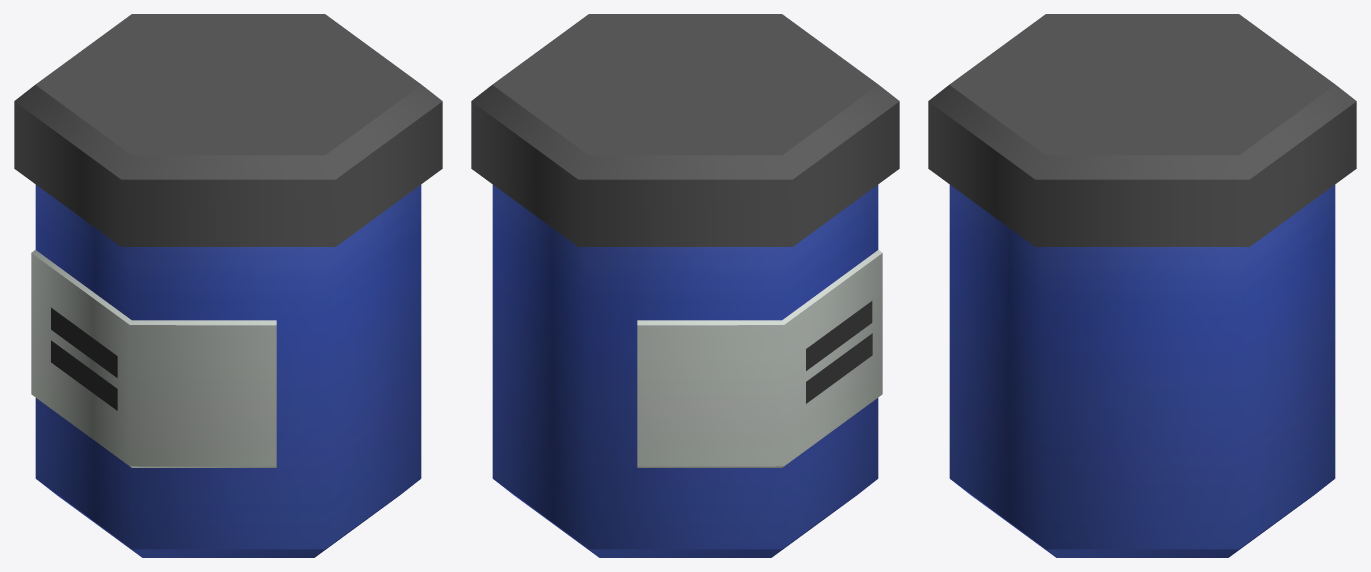
The model's file is Jar_1_E.fbx.
The picture shows the model from 3 angles, left to right: view 1: azimuth 30°, elevation 25°; view 2: azimuth 150°, elevation 25°; view 3: azimuth 270°, elevation 25°; orthographic projection.
Parts seen in each view (by area): view 1: Jar_1_E; view 2: Jar_1_E; view 3: Jar_1_E.
Part boxes in pixels (x1=…): Jar_1_E: x1=14, y1=14, x2=442, y2=557; Jar_1_E: x1=471, y1=14, x2=899, y2=557; Jar_1_E: x1=928, y1=14, x2=1356, y2=557.
Size of the model in its own units: 17.99 by 21.94 by 20.77.
